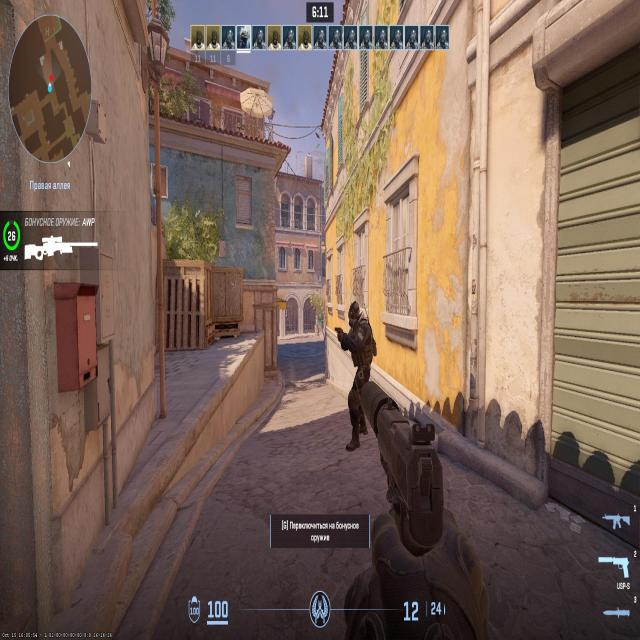CT: (348, 299, 371, 451)
CT_heat: (352, 309, 362, 328)
